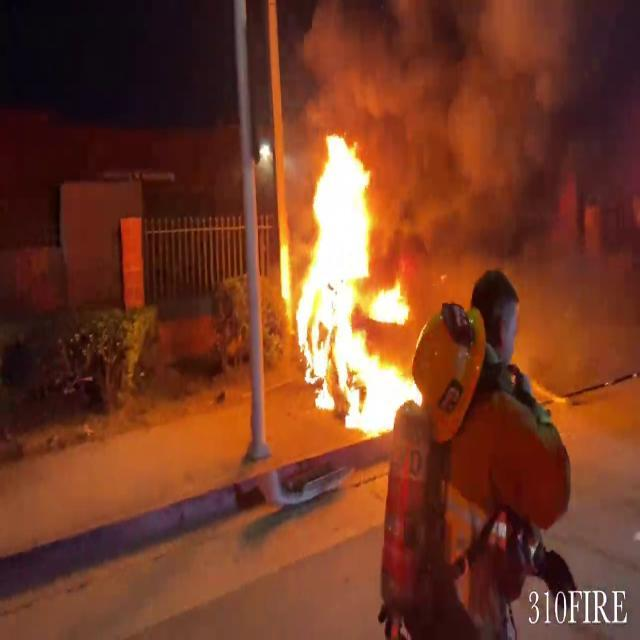Fire: (287, 126, 421, 436)
Smoke: (338, 0, 602, 254)
